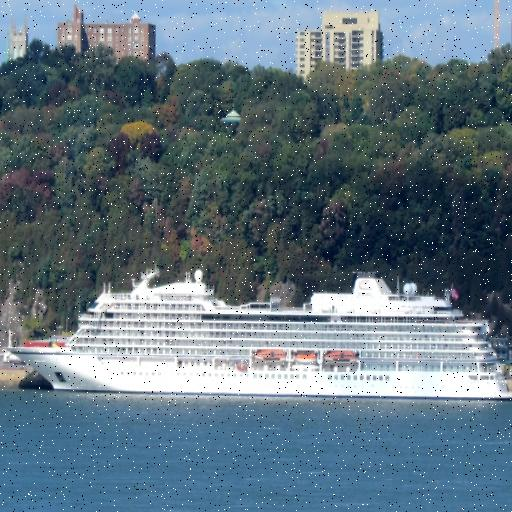cruises: (1, 256, 512, 409)
